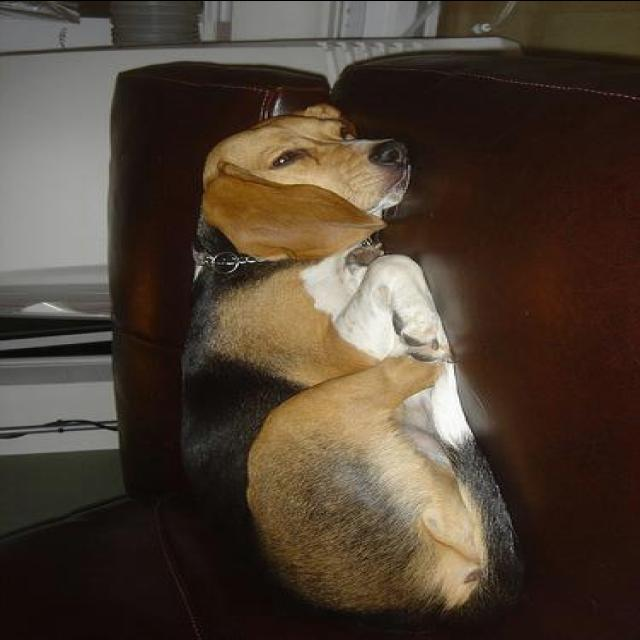beagle: (172, 91, 510, 639)
